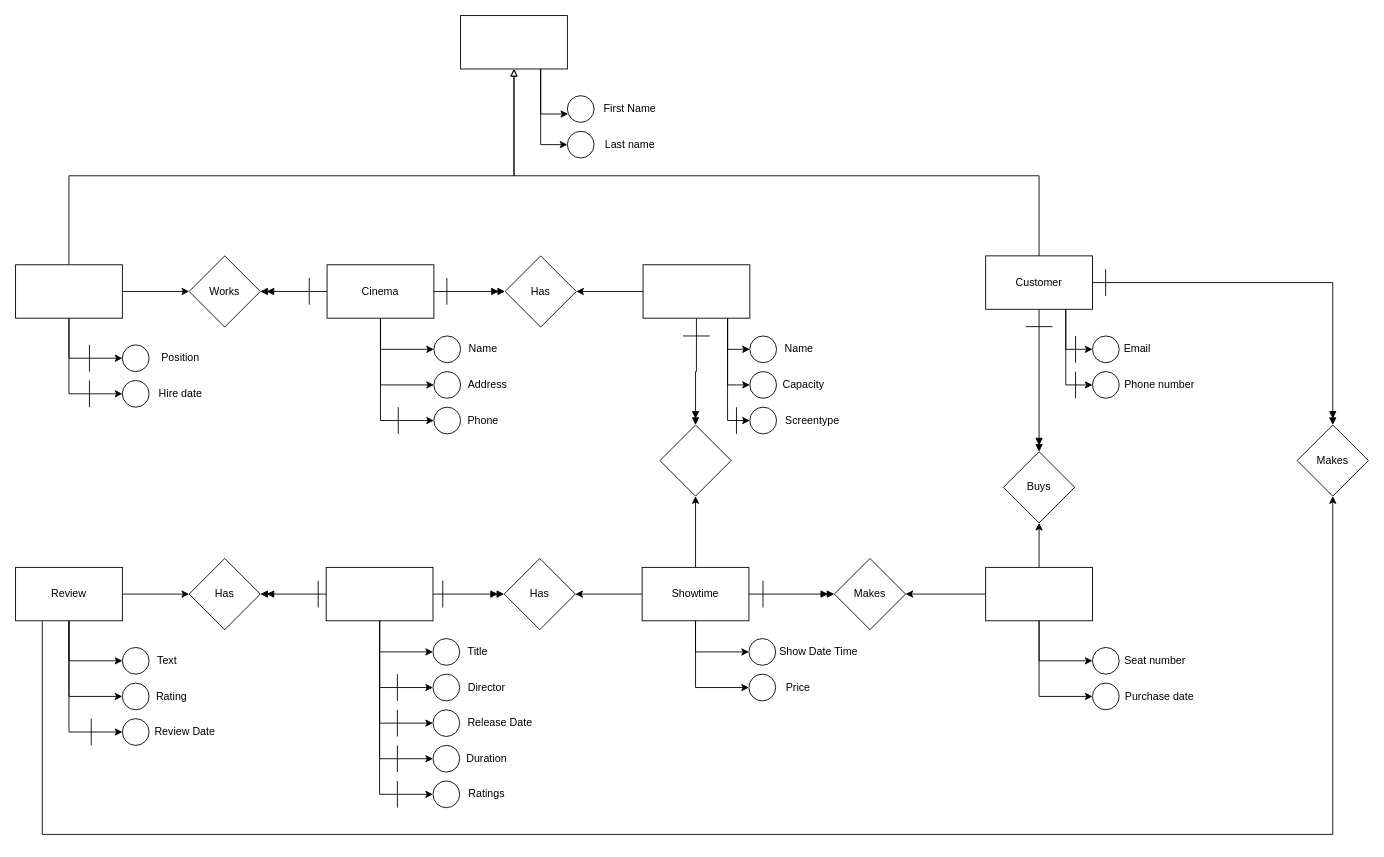
Image size: 1384x857. Some labels were removed from this diagram. The centre of each missing label's shape, as x and y in pixels:
Employee: the point at 68,291
Happens: the point at 695,460
Movie: the point at 379,593
Person: the point at 513,42
Theater: the point at 696,291
Ticket: the point at 1038,593
